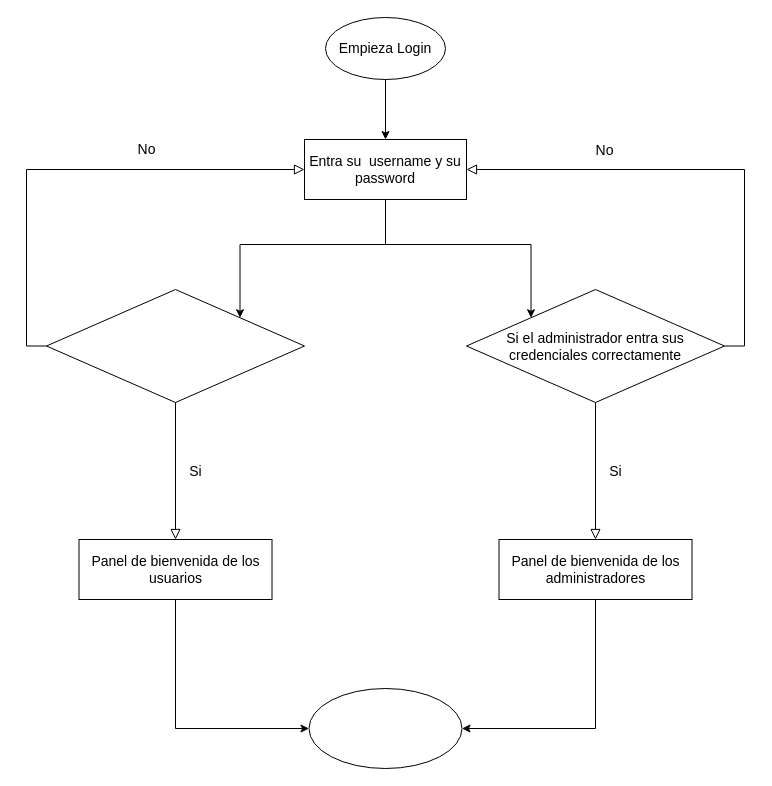
Some shapes in this 772 by 786 pixel diagram are drawn without their labels. The box of each missing label's shape, as (x1, y1, x2, y2) in pixels:
Fin del Login: (308, 688, 462, 768)
Si el usuario entra sus credenciales correctamente: (46, 288, 304, 402)
